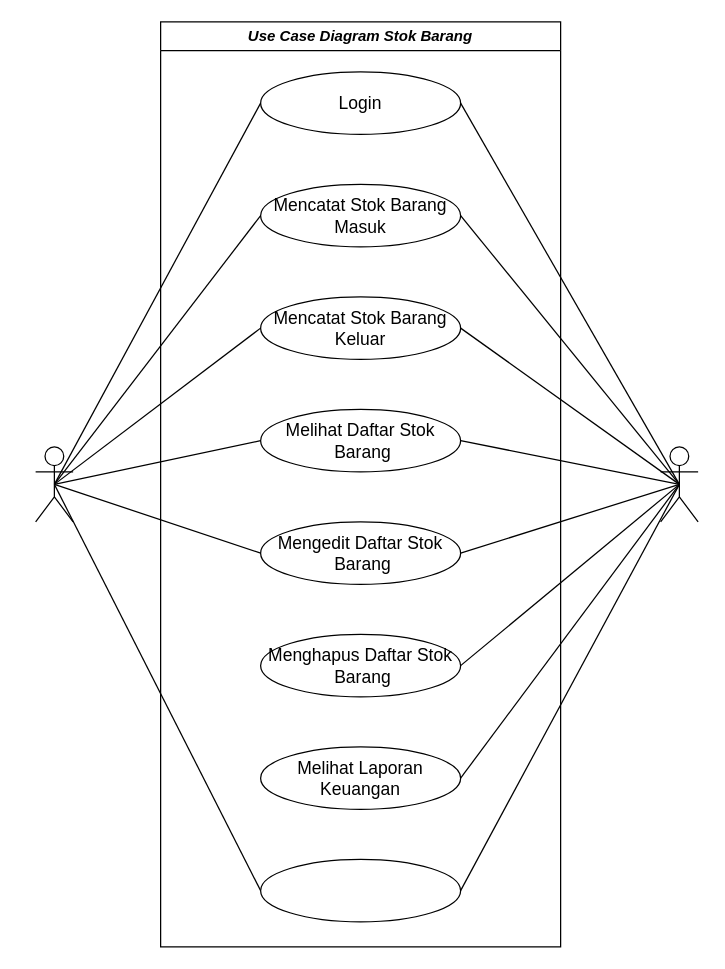
Some shapes in this 725 by 969 pixel diagram are drawn without their labels. Each missing label, with the centre of its shape:
Karyawan: [53,484]
Logout: [360,890]
Pemilik: [678,484]
